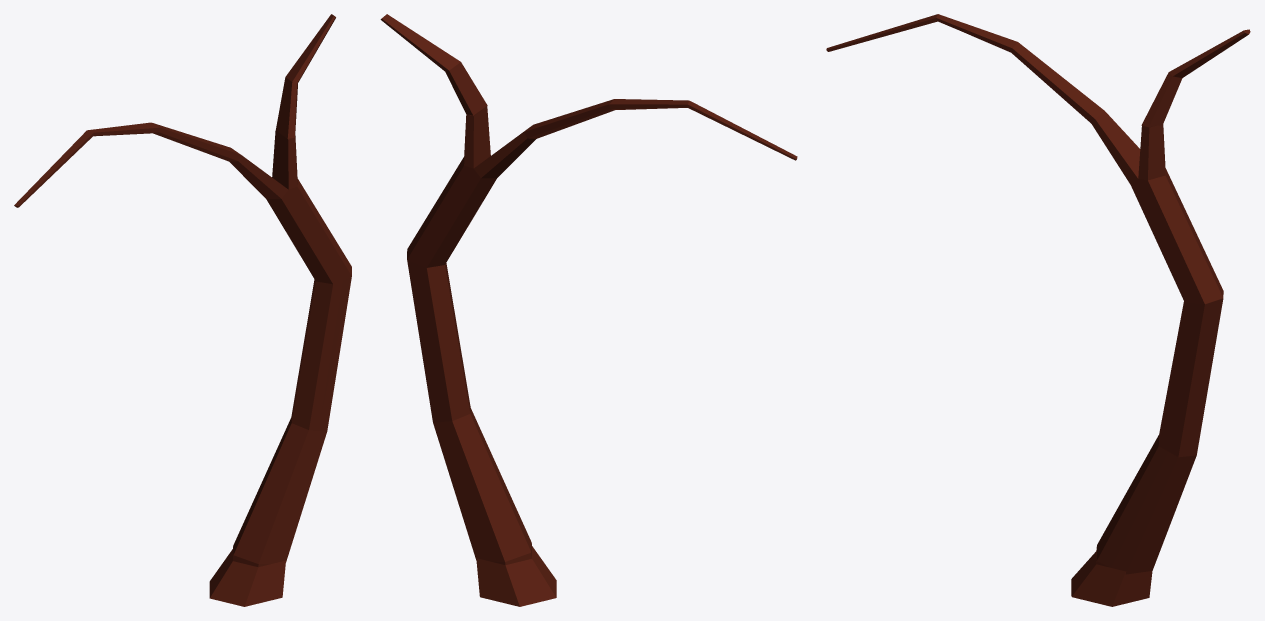
Rendered from tree.glb.
The picture shows the model from 3 angles, left to right: view 1: azimuth 30°, elevation 25°; view 2: azimuth 150°, elevation 25°; view 3: azimuth 330°, elevation 25°; orthographic projection. The views are drawn at different scales.
Parts seen in each view (by area): view 1: tree; view 2: tree; view 3: tree.
Boxes of the visible parts, x1,y1,x2,y2 form: tree: (14,14,351,606); tree: (380,14,797,606); tree: (826,14,1250,606).
Bounding box in the file's own units: 11.88 × 16.93 × 2.38.
